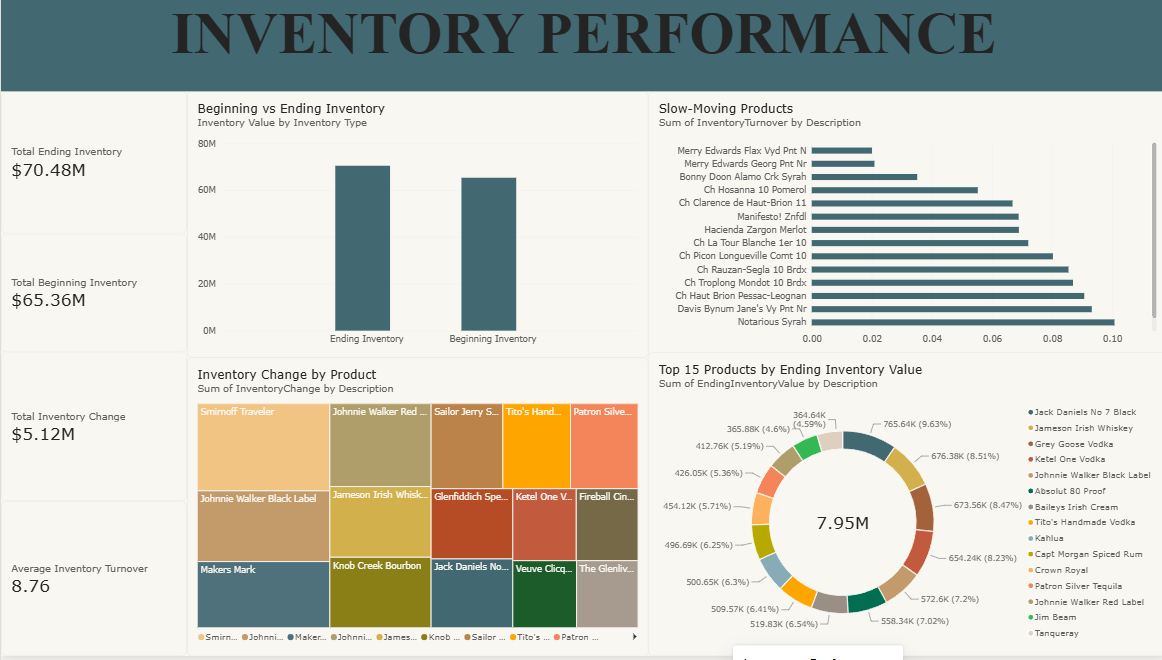

The dashboard page shown, as its layout file describes it:
{"tool":"powerbi","page":{"name":"Inventory Performance","canvas":[1920,1080],"ordinal":3},"visuals":[{"type":"cardVisual","fields":{"Data":["Inventory_performance.Total Beginning Inventory"]},"box":[0,384.9,306.7,195.5],"z":0},{"type":"cardVisual","fields":{"Data":["Inventory_performance.Total Ending Inventory"]},"box":[0,150.3,306.7,234.6],"z":1},{"type":"cardVisual","fields":{"Data":["Inventory_performance.Total Inventory Change"]},"box":[0,580.4,306.7,244.9],"z":2},{"type":"cardVisual","fields":{"Data":["Inventory_performance.Average Inventory Turnover"]},"box":[0,825.4,306.7,255.2],"z":3},{"type":"clusteredColumnChart","title":"Beginning vs Ending Inventory","fields":{"Category":["Inventory Type.Inventory Type"],"Y":["Inventory Type.Inventory Value"]},"box":[306.7,150.3,759.5,438.4],"z":4},{"type":"treemap","title":"Inventory Change by Product","fields":{"Group":["Inventory_performance.Description"],"Values":["Sum(Inventory_performance.InventoryChange)"]},"box":[306.7,588.7,759.5,491.9],"z":5},{"type":"clusteredBarChart","title":"Slow-Moving Products","fields":{"Category":["Inventory_performance.Description"],"Y":["Sum(Inventory_performance.InventoryTurnover)"]},"box":[1066.2,150.3,854.2,438.4],"z":6},{"type":"donutChart","title":"Top 15 Products by Ending Inventory Value","fields":{"Category":["Inventory_performance.Description"],"Y":["Sum(Inventory_performance.EndingInventoryValue)"]},"box":[1066.2,580.4,854.2,500.2],"z":7},{"type":"textbox","box":[0,0,1920.4,150.3],"z":8}]}

Visuals, with their boxes in screenshot pixels (x1, y1, x2, y2), scaled from the page's 1920x1080 canvas onto the 1162x660 screenshot:
cardVisual - Inventory_performance.Total Beginning Inventory: crop(0, 235, 186, 355)
cardVisual - Inventory_performance.Total Ending Inventory: crop(0, 92, 186, 235)
cardVisual - Inventory_performance.Total Inventory Change: crop(0, 355, 186, 504)
cardVisual - Inventory_performance.Average Inventory Turnover: crop(0, 504, 186, 659)
"Beginning vs Ending Inventory" clusteredColumnChart: crop(186, 92, 645, 360)
"Inventory Change by Product" treemap: crop(186, 360, 645, 659)
"Slow-Moving Products" clusteredBarChart: crop(645, 92, 1161, 360)
"Top 15 Products by Ending Inventory Value" donutChart: crop(645, 355, 1161, 659)
textbox: crop(0, 0, 1161, 92)
